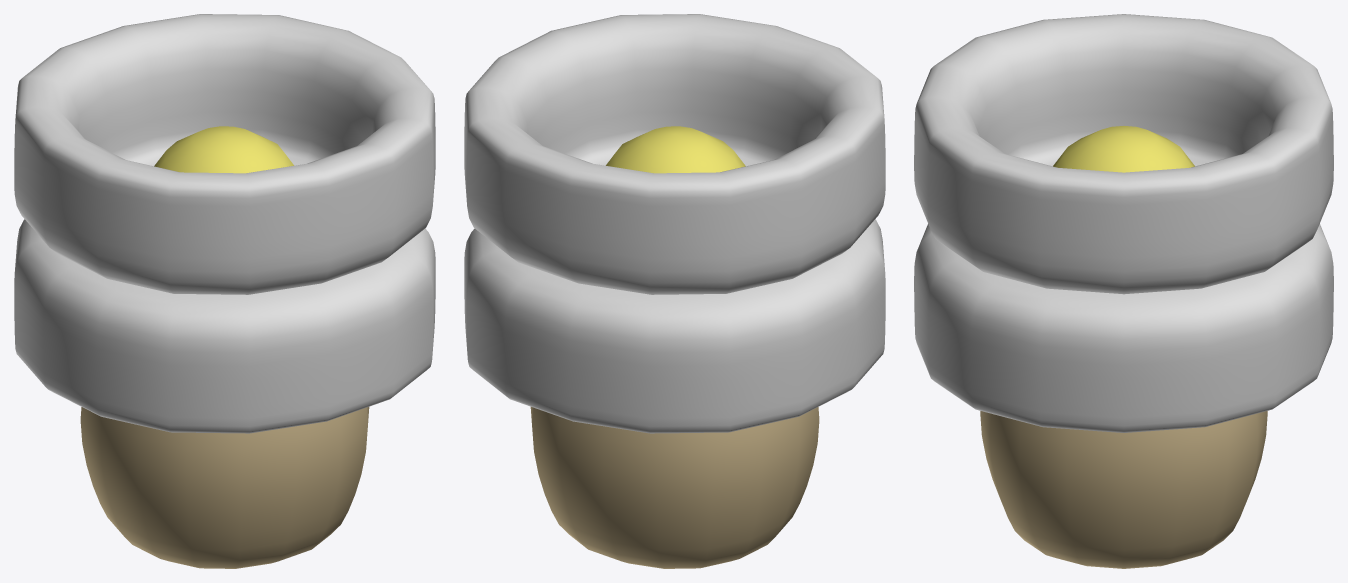
File: Lampara.fbx
The picture shows the model from 3 angles, left to right: view 1: azimuth 30°, elevation 25°; view 2: azimuth 150°, elevation 25°; view 3: azimuth 270°, elevation 25°; orthographic projection.
Visible parts, largest first — view 1: lampara; view 2: lampara; view 3: lampara.
Part boxes in pixels (x1,y1,x2,y2): lampara: [14, 14, 435, 568]; lampara: [464, 14, 885, 568]; lampara: [914, 14, 1333, 568].
Size of the model in its own units: 0.1316 by 0.1316 by 0.1529.
